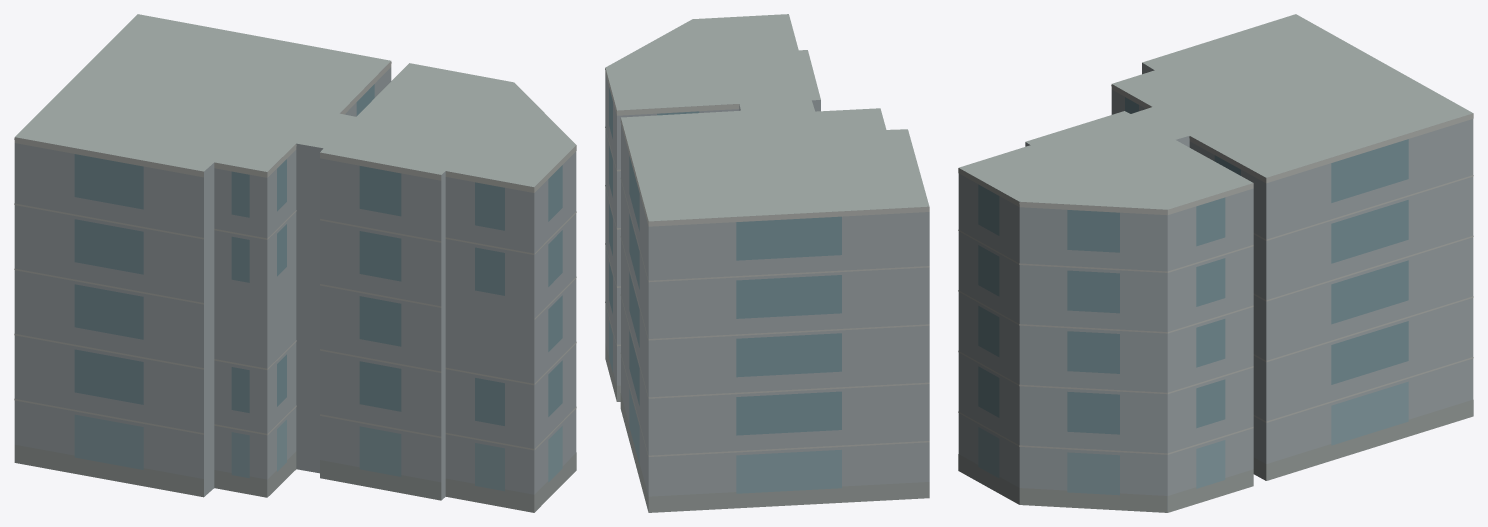
The model's file is survey-upis-33045258.glb.
The picture shows the model from 3 angles, left to right: view 1: azimuth 30°, elevation 25°; view 2: azimuth 150°, elevation 25°; view 3: azimuth 270°, elevation 25°; orthographic projection. The views are drawn at different scales.
Parts seen in each view (by area): view 1: survey-upis-33045258.tmp; view 2: survey-upis-33045258.tmp; view 3: survey-upis-33045258.tmp.
Part boxes in pixels (<box>): survey-upis-33045258.tmp: <box>14,14,576,512</box>; survey-upis-33045258.tmp: <box>605,14,929,512</box>; survey-upis-33045258.tmp: <box>958,14,1473,512</box>.
Bounding box in the file's own units: 18.72 × 13.5 × 20.81.
